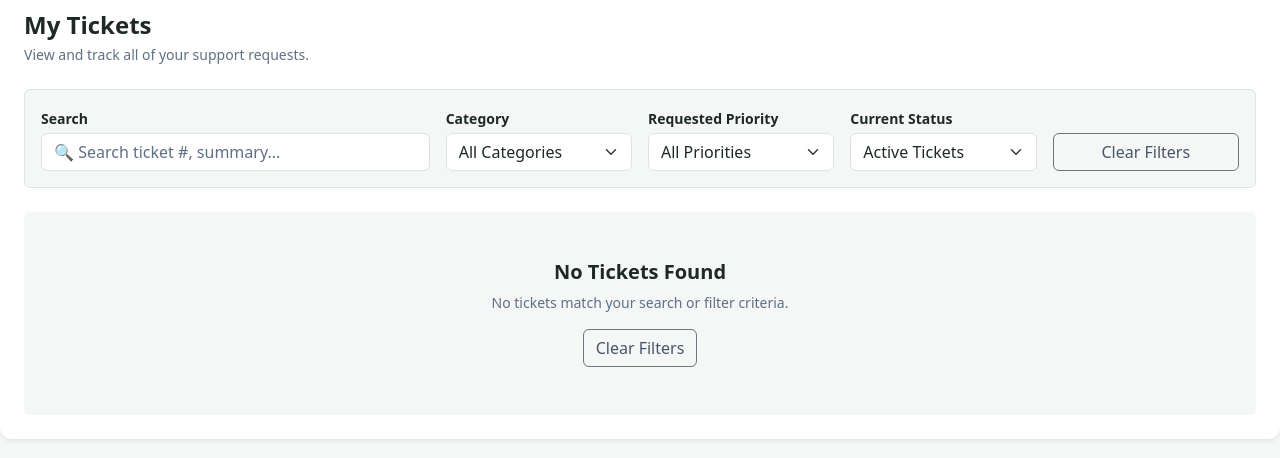
Test: Requester dashboard drill-down integration › clears the active group using existing Clear Filters
Expected: the heading "No Tickets Found" is shown, [554,258,726,285]
What coordinates should you click on to do the following:
click the button "Clear Filters" below "Current Status"
I would click on:
 (1146, 152)
Its box is [1053,133,1239,171].
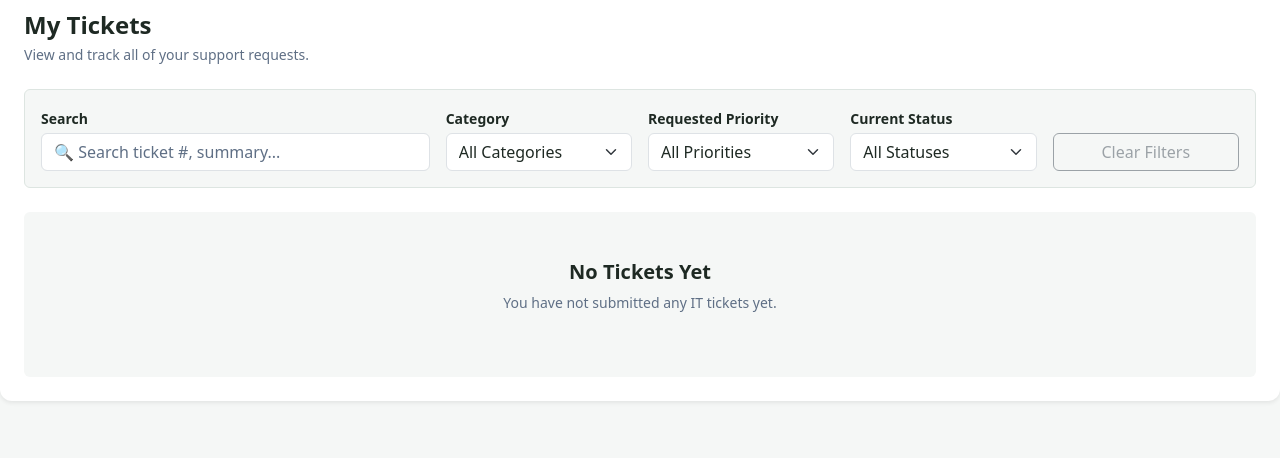
Expected: the heading "No Tickets Yet" is shown, [569,258,711,285]
